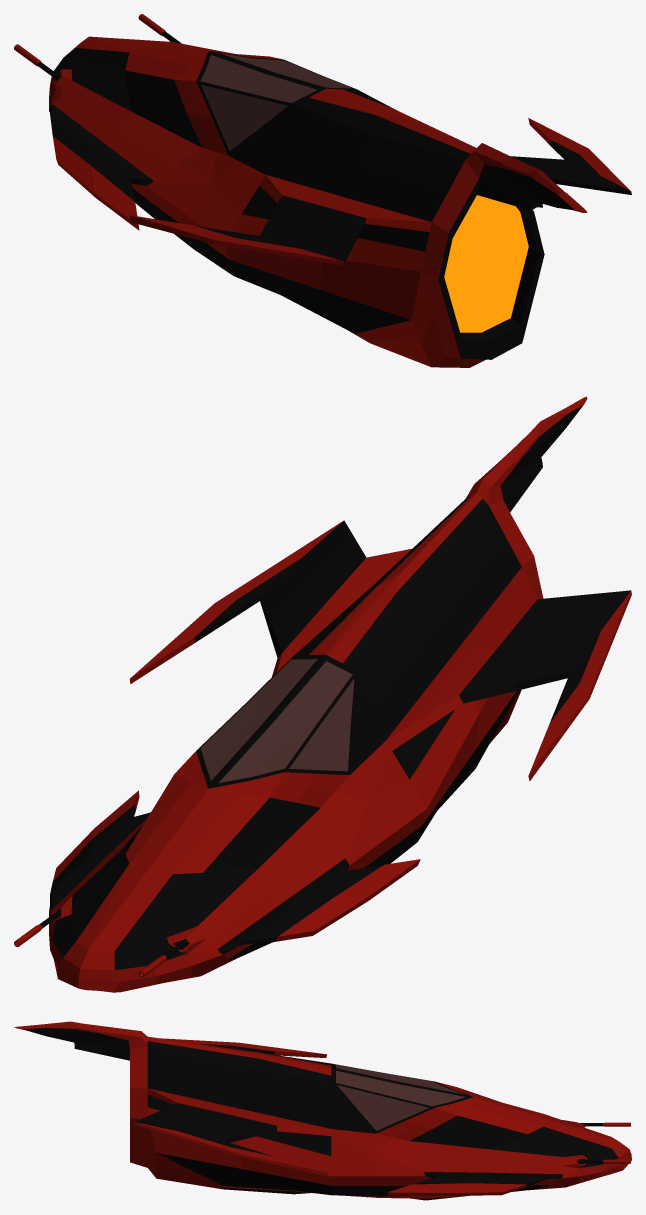
File: low_poly_space_ship_07.glb
The picture shows the model from 3 angles, top to bottom: view 1: azimuth 30°, elevation 25°; view 2: azimuth 150°, elevation 25°; view 3: azimuth 270°, elevation 25°; orthographic projection. The views are drawn at different scales.
Parts seen in each view (by area): view 1: Cube, Cylinder; view 2: Cube; view 3: Cube, Cylinder.
Boxes of the visible parts, <box> form: Cube: <box>49,36,631,367</box>; Cylinder: <box>14,14,181,80</box>; Cube: <box>49,396,631,992</box>; Cube: <box>14,1021,631,1200</box>; Cylinder: <box>577,1122,630,1163</box>.
Size of the model in its own units: 594 by 376 by 1311.
